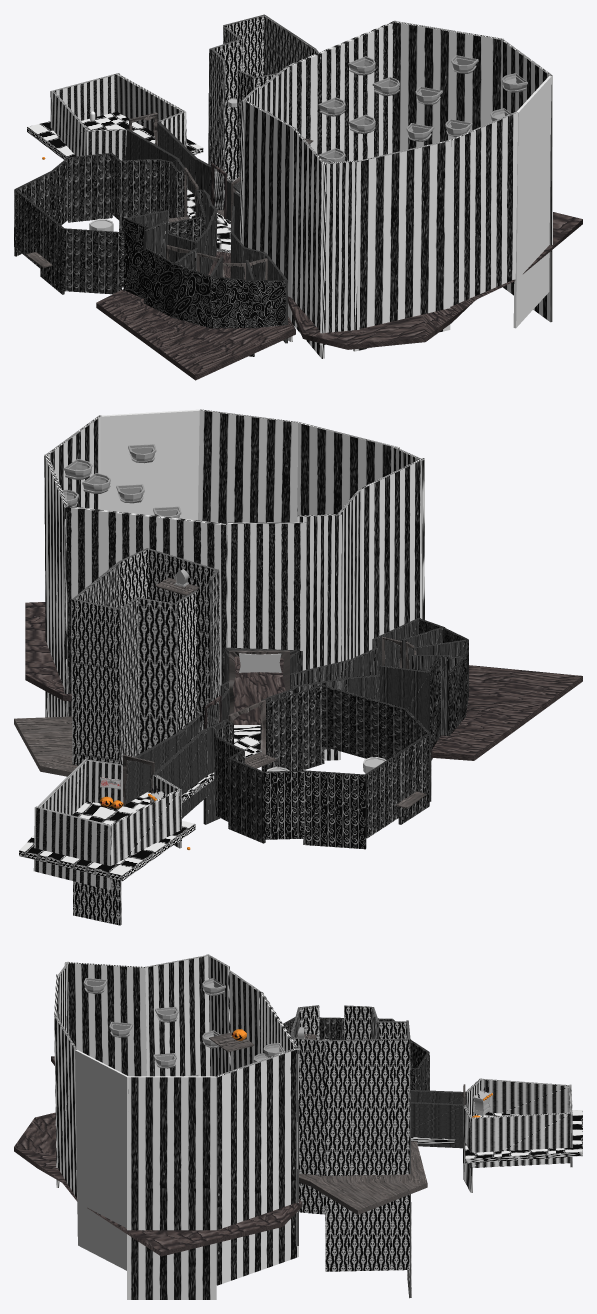
Rendered from LEVEL MAP 1ST EXPORT.fbx.
The picture shows the model from 3 angles, top to bottom: view 1: azimuth 30°, elevation 25°; view 2: azimuth 150°, elevation 25°; view 3: azimuth 270°, elevation 25°; orthographic projection. The views are drawn at different scales.
Visible parts, largest first — view 1: WALL__40_, WALL__39_, pCube3, pCube2, WALL__43_, WALL__38_, pCube15, WALL__42_, WALL__41_, pCube19, WALL__22_, pCube1 (+36 smaller); view 2: WALL__39_, pCube2, WALL__44_1, WALL__42_, WALL__10_, WALL__38_, pCube15, WALL__40_, WALL__44_, WALL__12_, WALL__21_, pCube3 (+39 smaller); view 3: pCube1, WALL__9_, pCube3, WALL__38_, WALL__42_, WALL__43_, pCube19, WALL__8_, WALL, pCube16, WALL__39_, WALL__1_ (+14 smaller).
Part boxes in pixels (left/top/right/bottom): WALL__40_: left=353, top=140, right=452, bottom=351; WALL__39_: left=450, top=111, right=517, bottom=306; pCube3: left=394, top=21, right=503, bottom=152; pCube2: left=287, top=20, right=397, bottom=161; WALL__43_: left=242, top=100, right=294, bottom=341; WALL__38_: left=513, top=75, right=551, bottom=328; pCube15: left=96, top=251, right=295, bottom=380; WALL__42_: left=291, top=128, right=326, bottom=358; WALL__41_: left=319, top=160, right=360, bottom=345; pCube19: left=288, top=212, right=582, bottom=349; WALL__22_: left=61, top=228, right=122, bottom=294; pCube1: left=501, top=39, right=552, bottom=322; WALL__39_: left=198, top=409, right=297, bottom=534; pCube2: left=64, top=506, right=227, bottom=716; WALL__44_1: left=227, top=522, right=306, bottom=650; WALL__42_: left=360, top=458, right=424, bottom=654; WALL__10_: left=71, top=598, right=121, bottom=925; WALL__38_: left=100, top=409, right=199, bottom=520; pCube15: left=431, top=665, right=582, bottom=760; WALL__40_: left=297, top=422, right=399, bottom=515; WALL__44_: left=297, top=514, right=341, bottom=760; WALL__12_: left=136, top=597, right=177, bottom=753; WALL__21_: left=321, top=685, right=404, bottom=759; pCube3: left=44, top=454, right=68, bottom=717; pCube1: left=127, top=1076, right=216, bottom=1299; WALL__9_: left=325, top=1038, right=409, bottom=1271; pCube3: left=215, top=1048, right=298, bottom=1285; WALL__38_: left=75, top=1049, right=128, bottom=1270; WALL__42_: left=64, top=962, right=146, bottom=1076; WALL__43_: left=145, top=955, right=210, bottom=1076; pCube19: left=14, top=1112, right=302, bottom=1256; WALL__8_: left=291, top=1037, right=326, bottom=1214; WALL: left=470, top=1112, right=570, bottom=1168; pCube16: left=299, top=1141, right=427, bottom=1214; WALL__39_: left=54, top=1016, right=77, bottom=1198; WALL__1_: left=481, top=1078, right=569, bottom=1114.
Size of the model in its own units: 7278 by 4852 by 8764.
